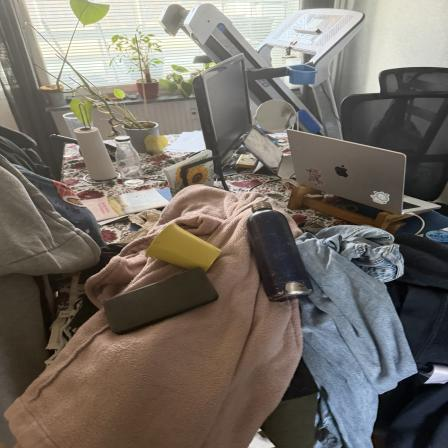blue_bottle: (245, 199, 315, 302)
phone: (102, 272, 221, 333)
yellow_cup: (144, 221, 231, 277)
